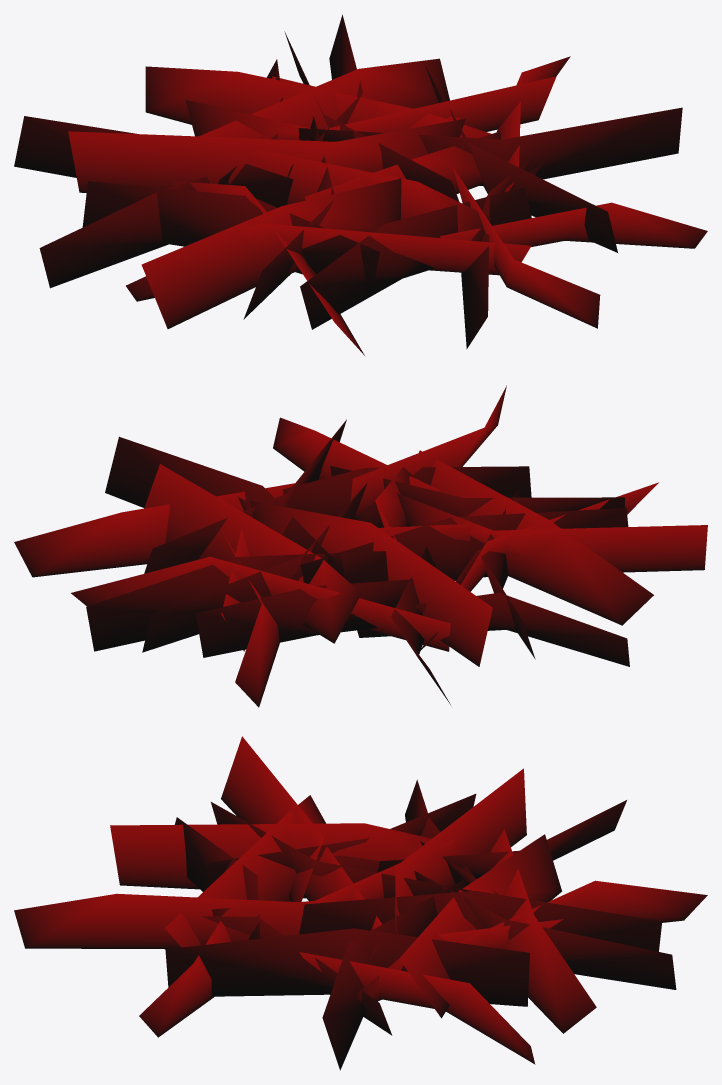
File: Grass2.fbx
3 views of the same model, one above another, from view 1: azimuth 30°, elevation 25°; view 2: azimuth 150°, elevation 25°; view 3: azimuth 270°, elevation 25° (orthographic). The views are drawn at different scales.
Parts seen in each view (by area): view 1: Grass2; view 2: Grass2; view 3: Grass2.
Part boxes in pixels (bbox=[...]): Grass2: bbox=[14, 14, 707, 355]; Grass2: bbox=[14, 385, 707, 707]; Grass2: bbox=[14, 736, 707, 1070].
Bounding box in the file's own units: 254 × 41.34 × 274.
